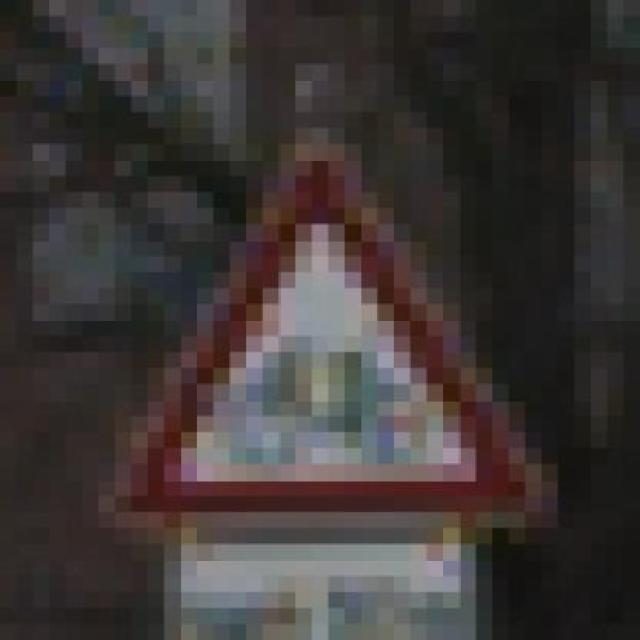CYCLE ROUTE AHEAD WARNING: (82, 128, 575, 560)
